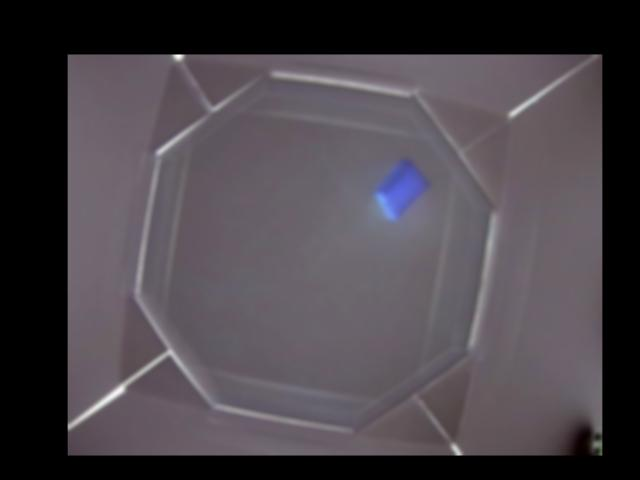Potato: (375, 160, 427, 218)
